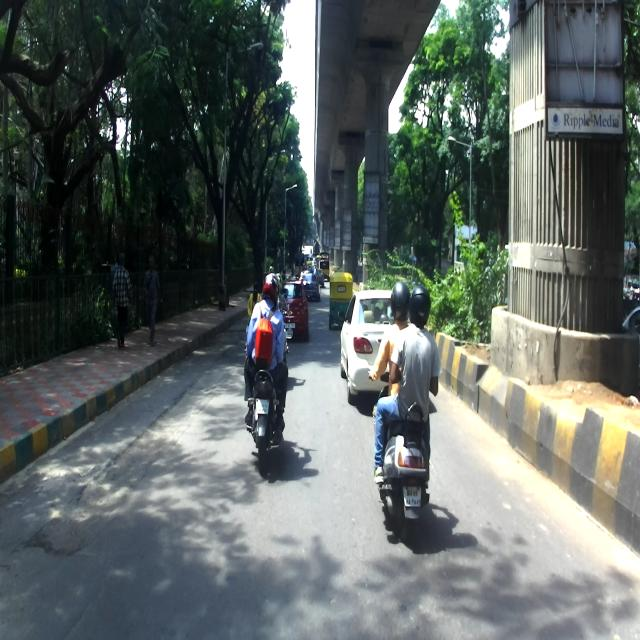motorcycle ahead at: (377, 415, 442, 545), (239, 366, 296, 477)
person ahead at: (107, 252, 135, 358)
